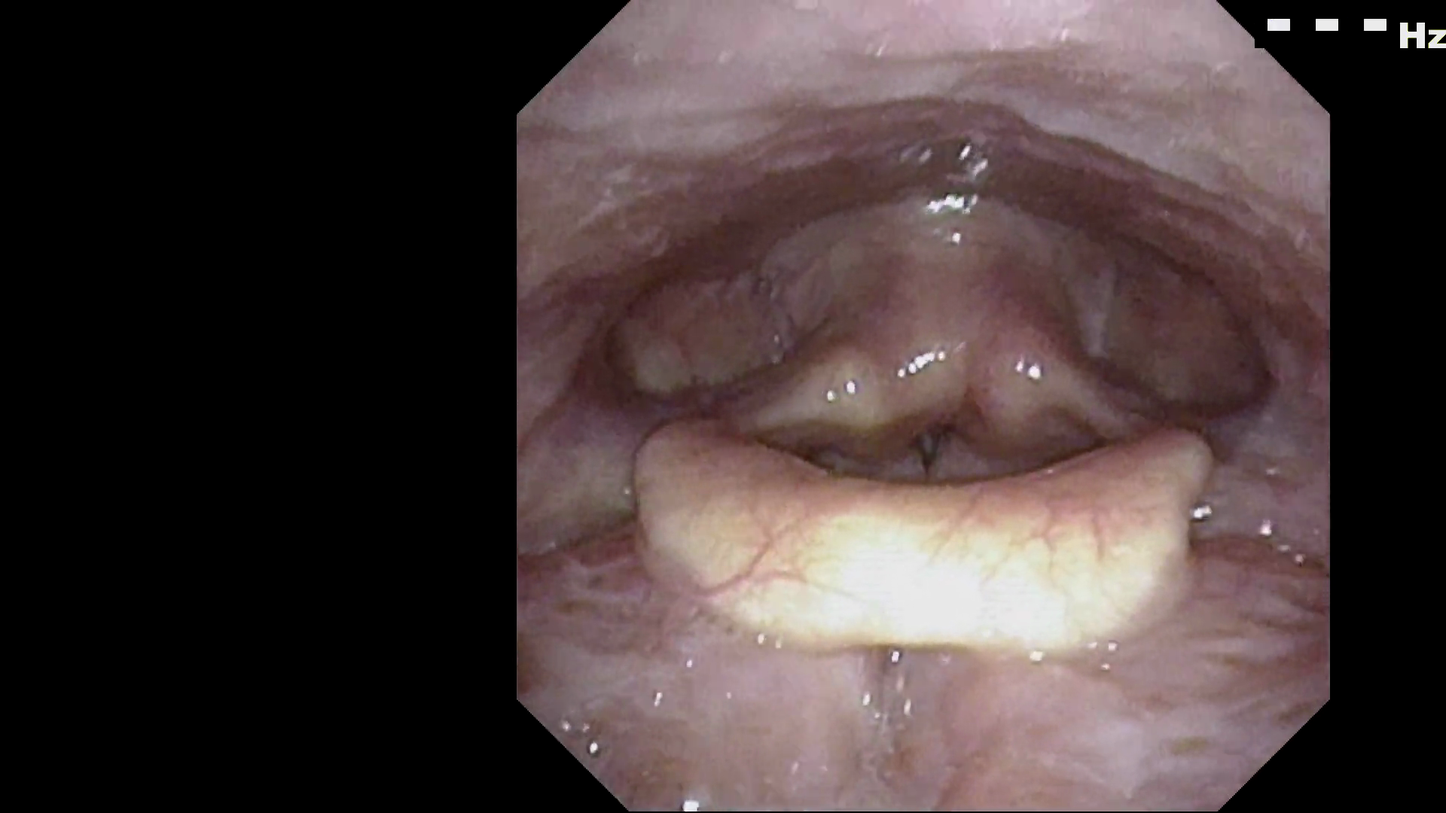epiglottis: (659, 411, 1207, 662)
trachea: (883, 398, 977, 507)
